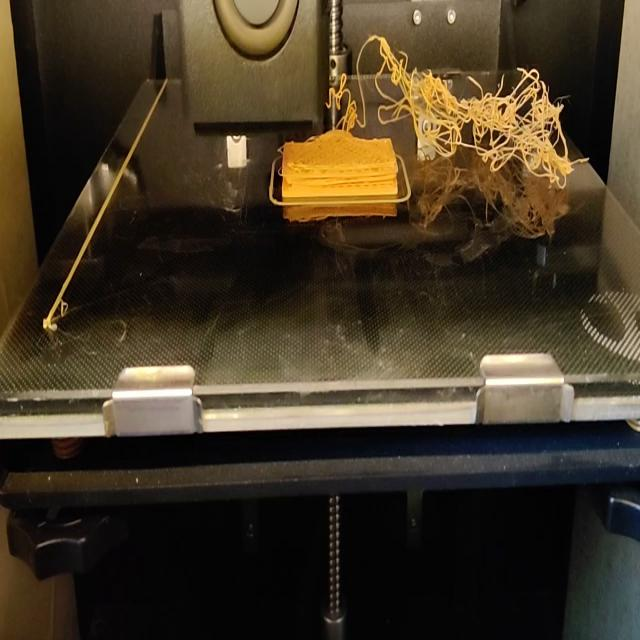spaghetti: (330, 31, 594, 187)
